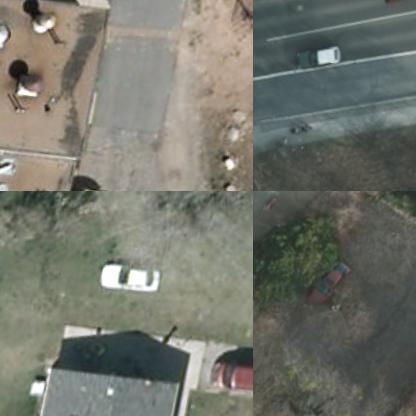car: (300, 244, 365, 310), (96, 260, 166, 297), (296, 33, 348, 76)
van: (207, 358, 252, 406)
